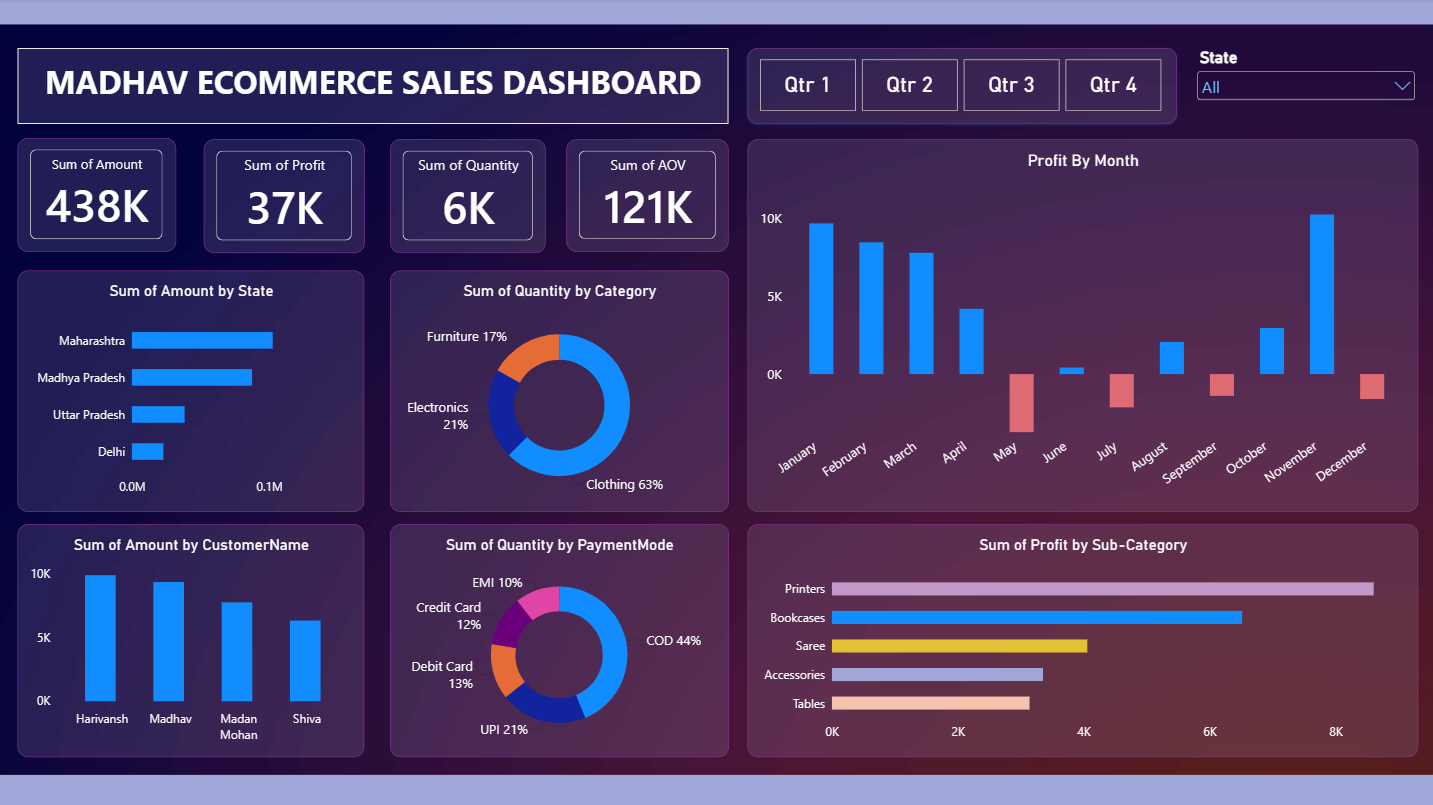

The page's visual inventory and layout, read from the dashboard file:
{"tool":"powerbi","page":{"name":"Page 1","canvas":[1920,1080],"ordinal":0},"visuals":[{"type":"textbox","box":[23.5,67,950.1,101.3],"z":0},{"type":"columnChart","title":"Profit By Month","fields":{"Category":["Orders.Order Date.Variation.Date Hierarchy.Month"],"Y":["Sum(Details.Profit)"]},"box":[998.9,188.2,895.8,497.7],"z":1000},{"type":"barChart","fields":{"Category":["Details.Sub-Category"],"Y":["Sum(Details.Profit)"]},"box":[998.9,702.1,895.8,311.3],"z":2000},{"type":"donutChart","fields":{"Category":["Details.Category"],"Y":["Sum(Details.Quantity)"]},"box":[521.2,363.7,452.4,322.1],"z":3000},{"type":"donutChart","fields":{"Category":["Details.PaymentMode"],"Y":["Sum(Details.Quantity)"]},"box":[521.2,702.1,452.4,311.3],"z":4000},{"type":"cardVisual","fields":{"Data":["Sum(Details.Amount)"]},"box":[23.5,186.4,211.7,152],"z":5000},{"type":"cardVisual","fields":{"Data":["Sum(Details.Quantity)"]},"box":[521.2,188.2,208.1,152],"z":6000},{"type":"cardVisual","fields":{"Data":["Sum(Details.Profit)"]},"box":[271.4,188.2,215.3,152],"z":7000},{"type":"cardVisual","fields":{"Data":["Sum(Details.AOV)"]},"box":[756.4,188.2,217.2,150.2],"z":8000},{"type":"barChart","fields":{"Category":["Orders.State"],"Y":["Sum(Details.Amount)"]},"box":[23.5,363.7,463.3,322.1],"z":9000},{"type":"columnChart","fields":{"Category":["Orders.CustomerName"],"Y":["Sum(Details.Amount)"]},"box":[23.5,702.1,463.3,311.3],"z":10000},{"type":"advancedSlicerVisual","fields":{"Values":["Orders.Order Date.Variation.Date Hierarchy.Quarter"]},"box":[998.9,67,573.7,101.3],"z":11000},{"type":"slicer","fields":{"Values":["Orders.State"]},"box":[1594.3,67,300.4,101.3],"z":12000}]}

Visuals, with their boxes in screenshot pixels (x1, y1, x2, y2), scaled from the page's 1920x1080 canvas onto the 1433x805 screenshot:
textbox: crop(18, 50, 727, 125)
"Profit By Month" columnChart: crop(746, 140, 1414, 511)
barChart - Details.Sub-Category x Sum(Details.Profit): crop(746, 523, 1414, 755)
donutChart - Details.Category x Sum(Details.Quantity): crop(389, 271, 727, 511)
donutChart - Details.PaymentMode x Sum(Details.Quantity): crop(389, 523, 727, 755)
cardVisual - Sum(Details.Amount): crop(18, 139, 176, 252)
cardVisual - Sum(Details.Quantity): crop(389, 140, 544, 254)
cardVisual - Sum(Details.Profit): crop(203, 140, 363, 254)
cardVisual - Sum(Details.AOV): crop(565, 140, 727, 252)
barChart - Orders.State x Sum(Details.Amount): crop(18, 271, 363, 511)
columnChart - Orders.CustomerName x Sum(Details.Amount): crop(18, 523, 363, 755)
advancedSlicerVisual - Orders.Order Date.Variation.Date Hierarchy.Quarter: crop(746, 50, 1174, 125)
slicer - Orders.State: crop(1190, 50, 1414, 125)
